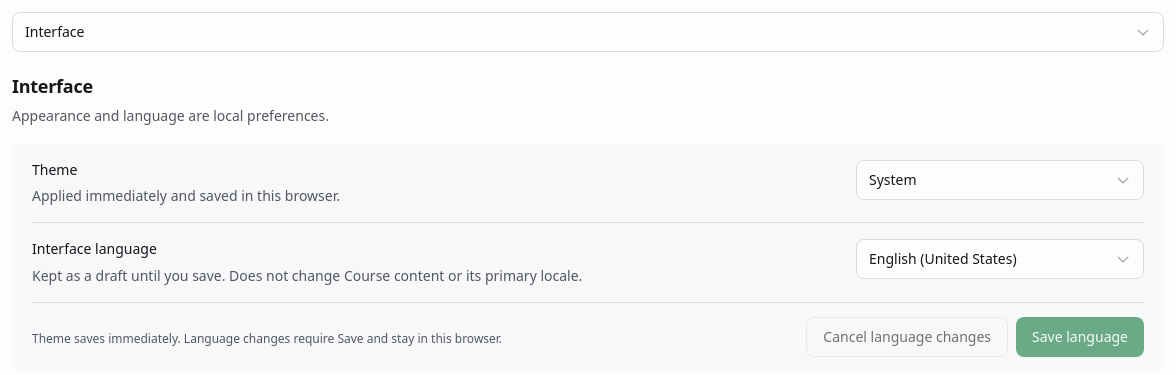
Test: SettingsForm › keeps locale as a draft while theme remains immediate
Check: the heading "Interface" is shown, box [12,74,93,98]
Click the dropdown named "Theme" at point(893, 180), box [856,160,1144,200]
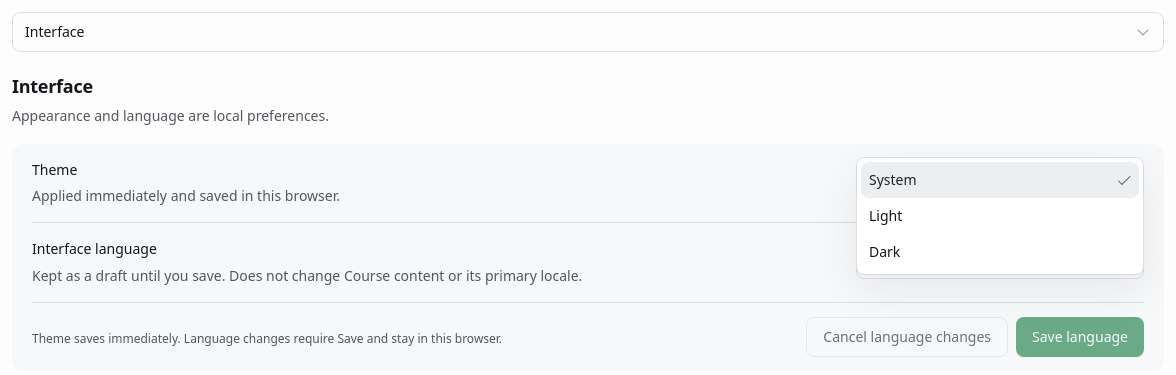
Click the option "Dark" at point(885, 252), box [869,242,900,261]
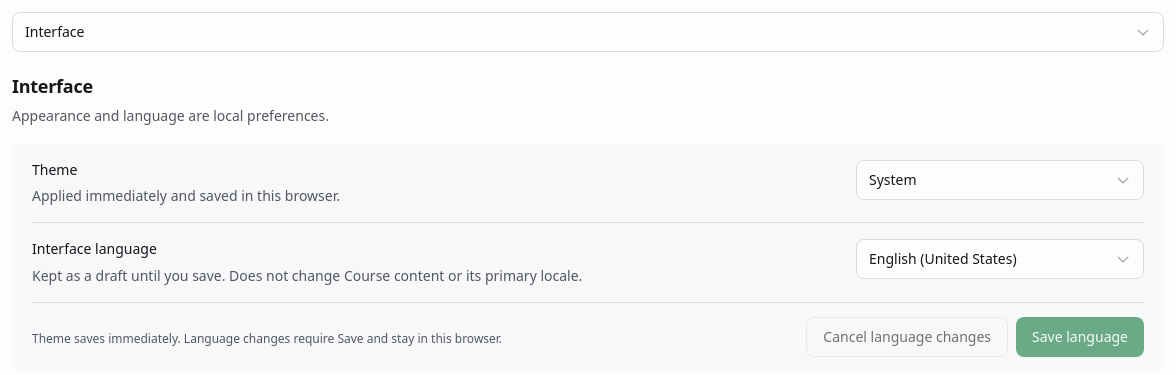
Click the dropdown named "Interface language" at point(1000, 259), box [856,239,1144,279]
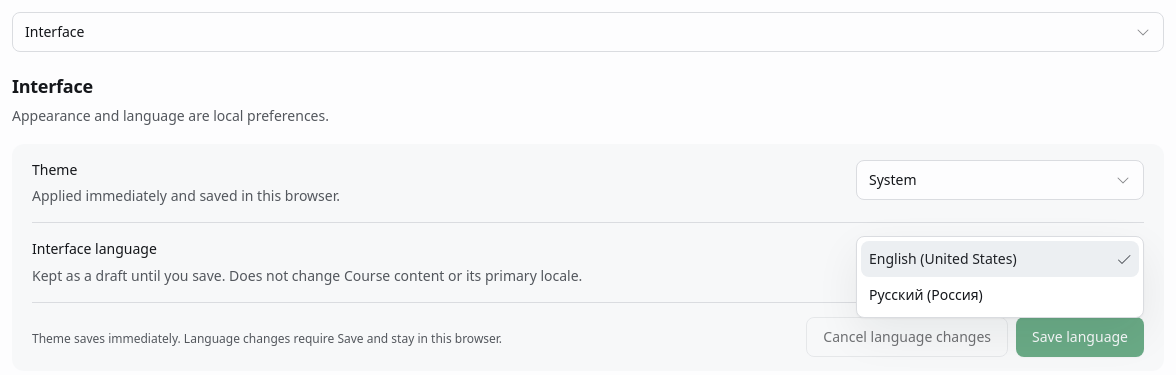
Click the option "Русский (Россия)" at point(926, 295), box [869,285,983,304]
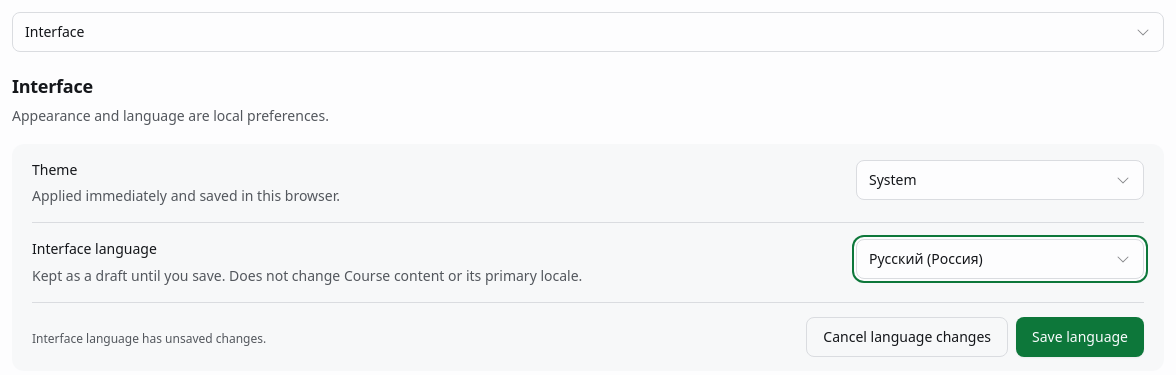
Check: the heading "Interface" is shown, box [12,74,93,98]
Check: the message reads "Interface language has unsaved changes.", box [32,330,266,346]
Check: the button "Save language" is enabled, box [1016,316,1144,356]
